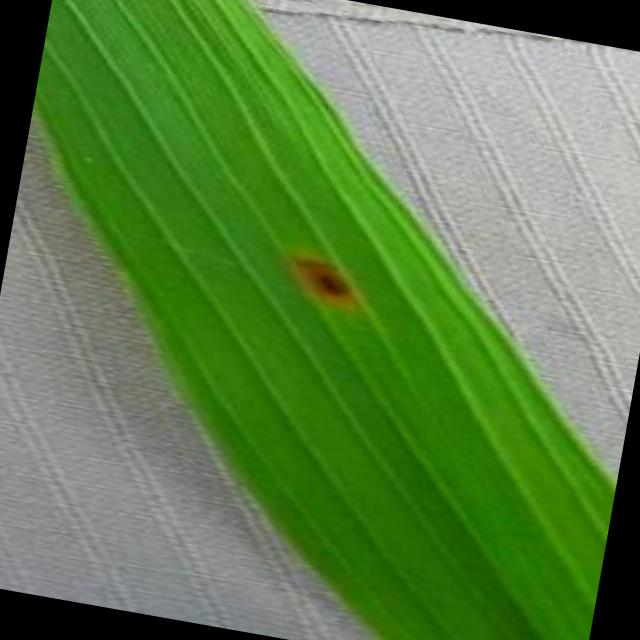Rice_Brownspot: (270, 238, 372, 314)
